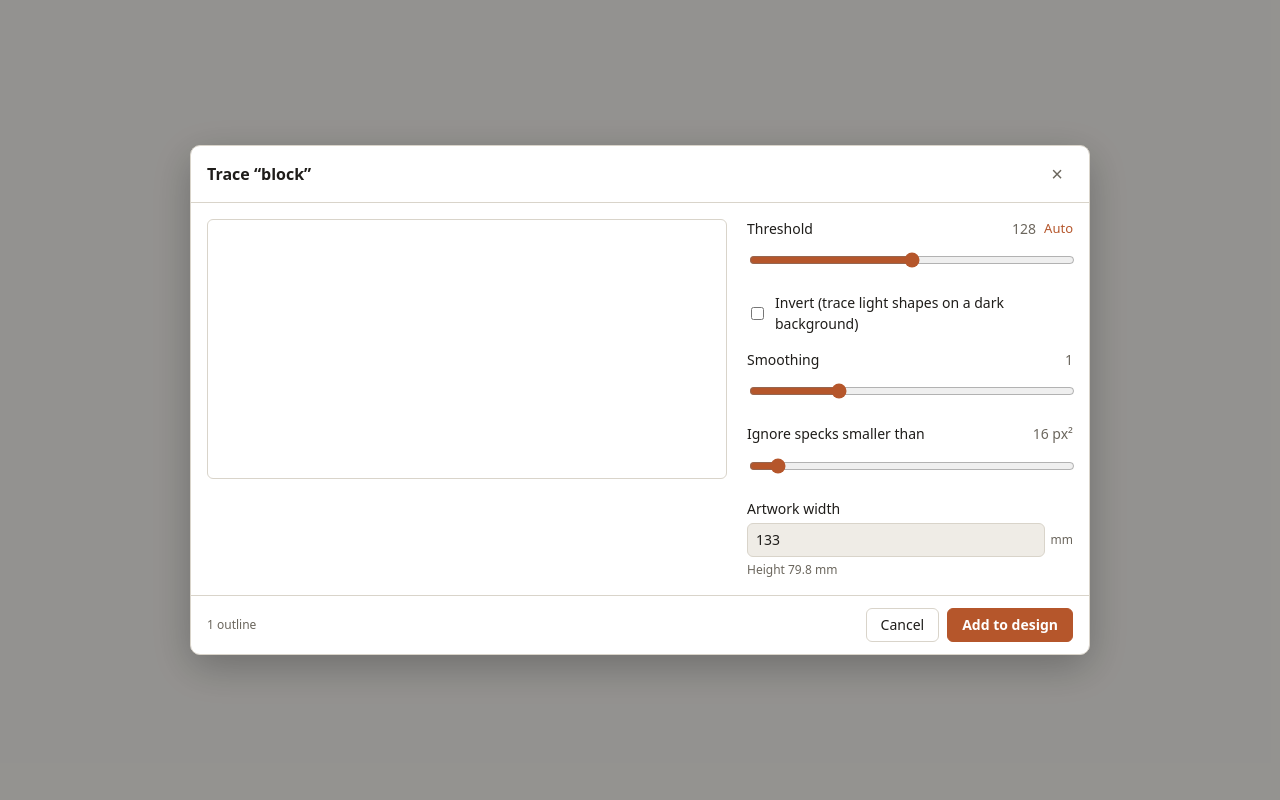
Test case: TraceDialog › blocks adding with an invalid width
Expected: the text "1 outline" is shown, [207, 616, 256, 633]
Step 1. Clear the number field labelled "Artwork width" → (896, 540), box [747, 523, 1044, 557]
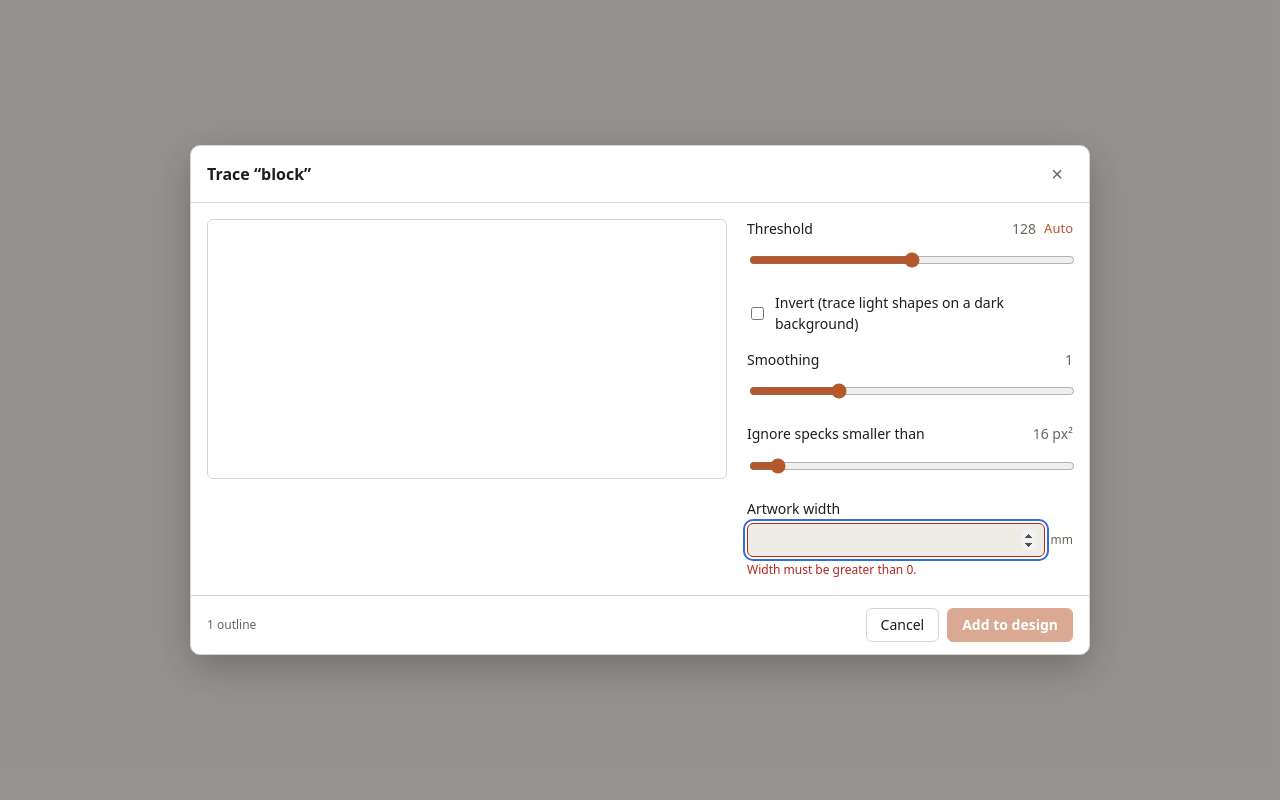
Expected: the button "Add to design" is disabled, [947, 608, 1073, 642]
